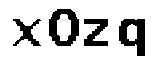0: (46, 6, 81, 51)
q: (115, 17, 152, 60)
x: (7, 17, 43, 48)
z: (81, 16, 111, 49)
